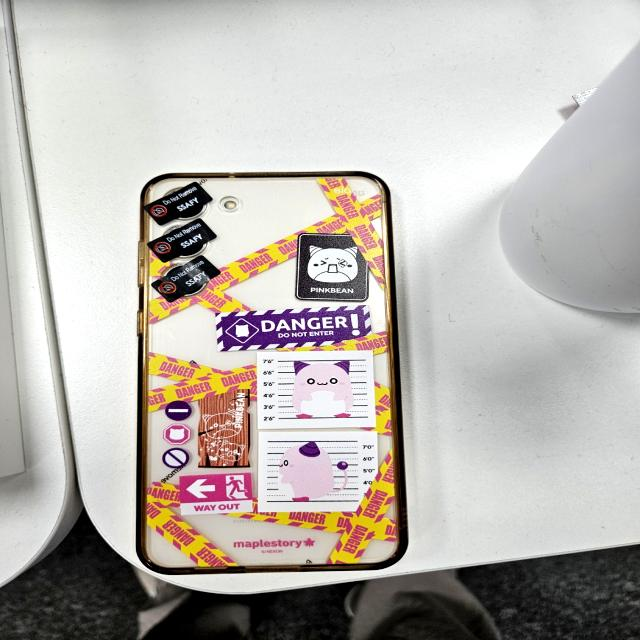phone: (139, 169, 409, 574)
sticker: (152, 259, 222, 300), (148, 220, 216, 260), (149, 189, 207, 221)
